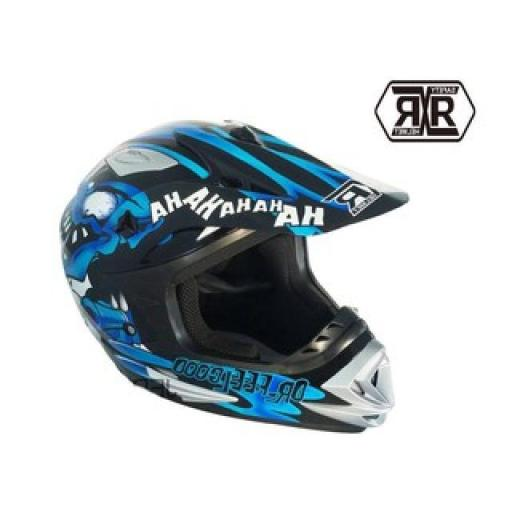Helmet: (60, 122, 407, 431)
